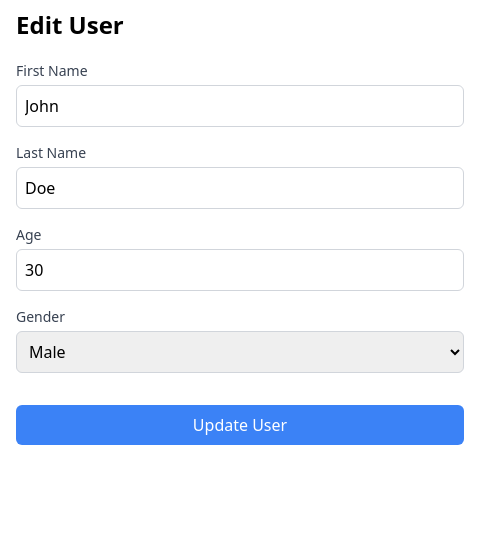
EditUser Component › shows validation messages when required fields are empty
The image size is (481, 558).
Clear the field labelled "First Name" at (240, 106), box [16,85,464,127]
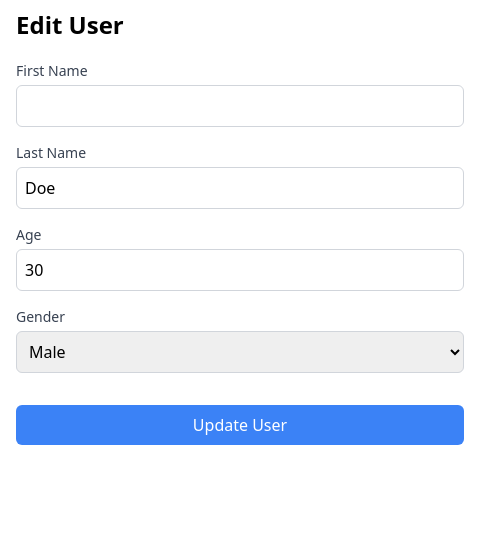
Clear the field labelled "Last Name" at (240, 188), box [16,167,464,209]
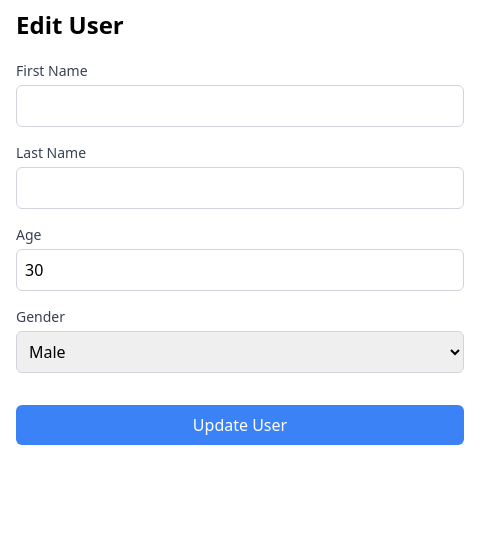
Clear the number field labelled "Age" at (240, 270), box [16,249,464,291]
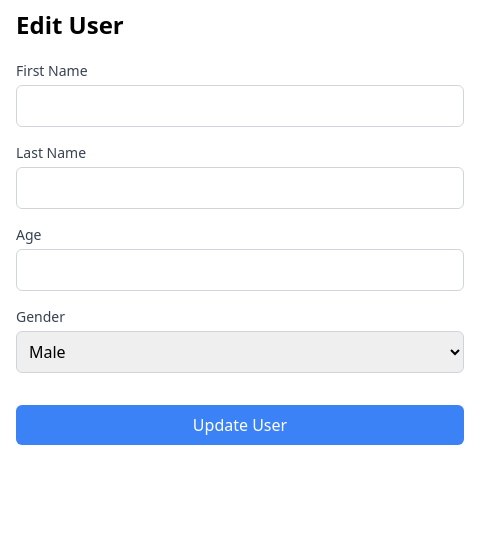
Select "Select Gender" in the dropdown labelled "Gender" at (240, 352), box [16,331,464,373]
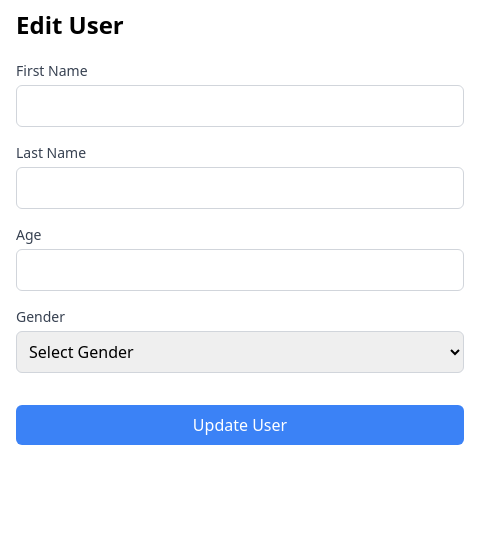
Click the button "Update User".
click(240, 425)  # box [16,405,464,445]
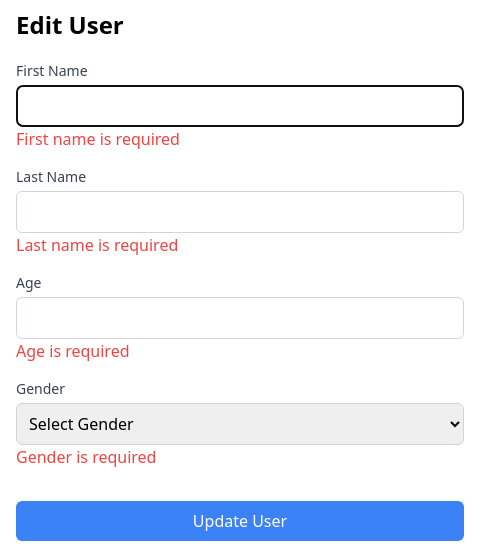
Expected: the text "First name is required" is shown, [16,128,180,150]
Expected: the text "Last name is required" is shown, [16,234,178,256]
Expected: the text "Age is required" is shown, [16,340,130,362]
